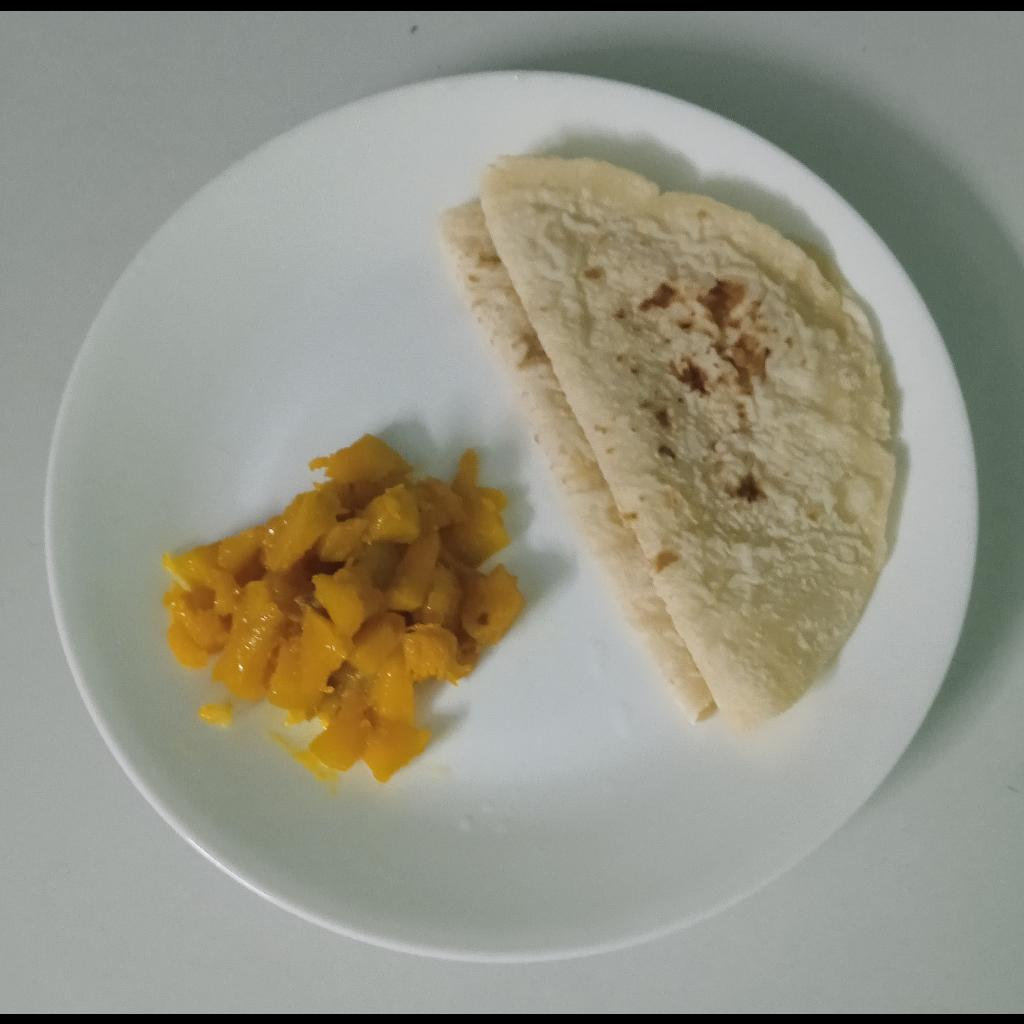kumra-vaji: (158, 432, 522, 783)
ruti: (441, 149, 901, 745)
